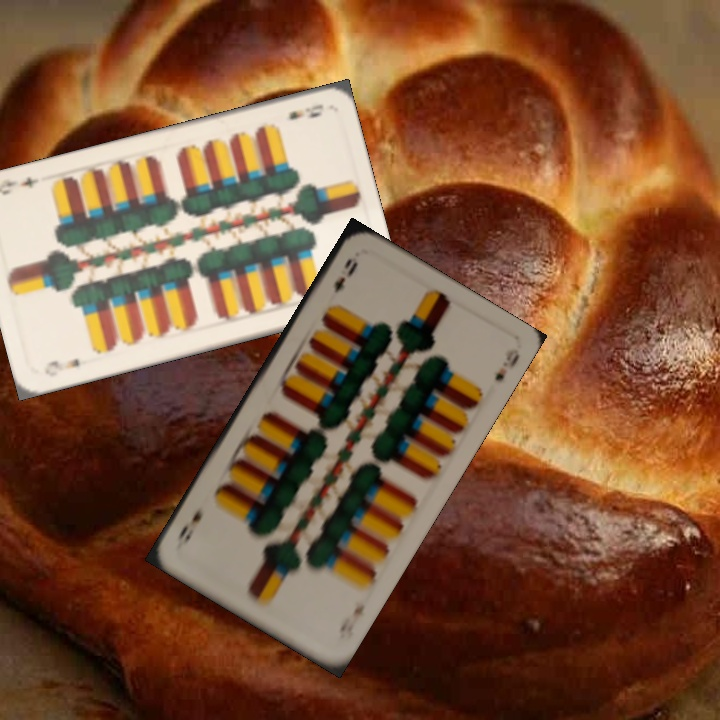E9: (334, 600, 368, 642), (329, 254, 361, 296), (40, 354, 82, 379), (284, 100, 326, 123)
